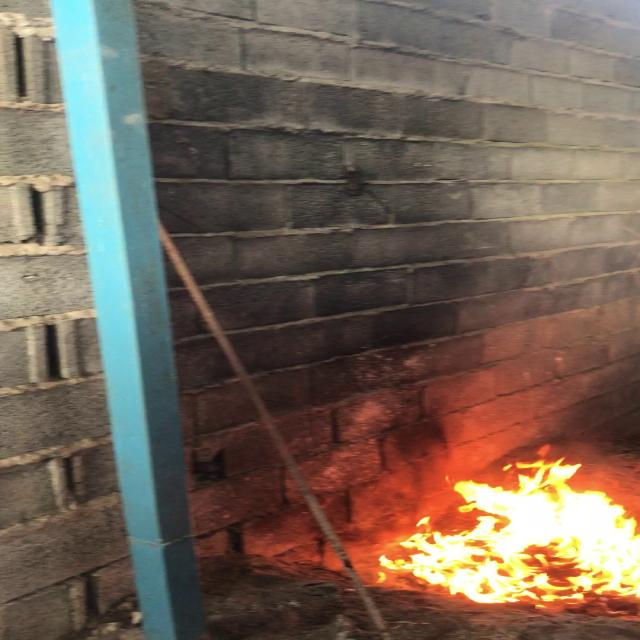fire: (391, 459, 640, 602)
